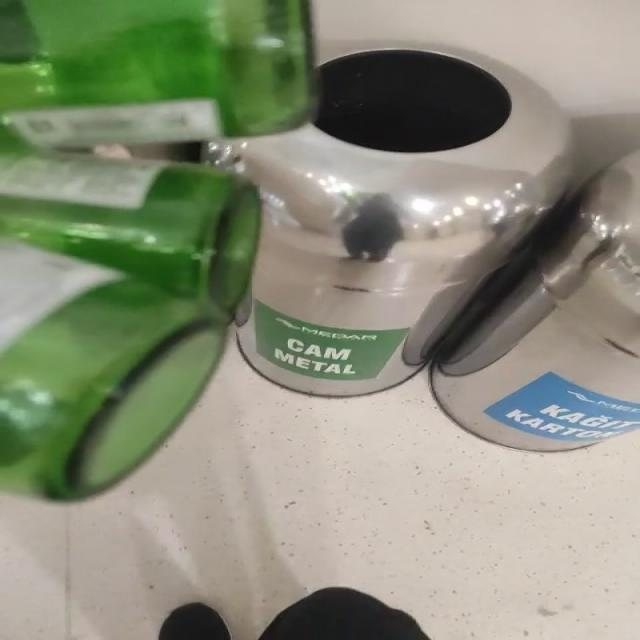glass: (0, 0, 315, 501)
